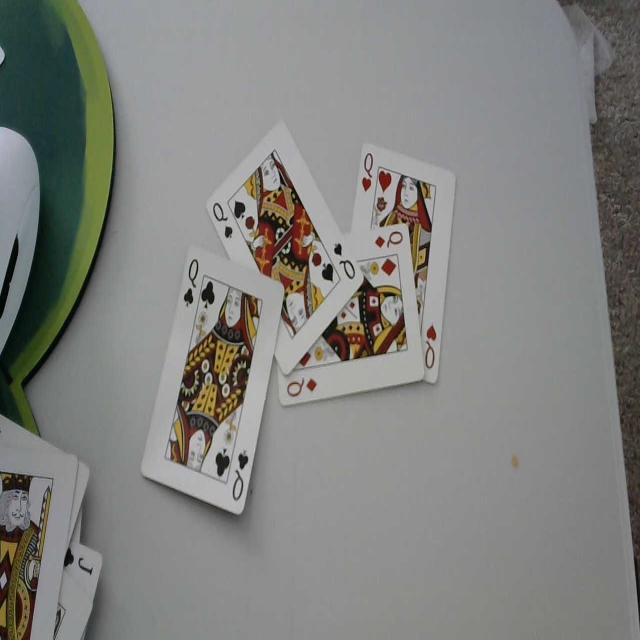JC: (64, 547, 98, 576)
QC: (230, 446, 251, 505), (182, 258, 200, 311)
QD: (285, 373, 321, 399), (373, 230, 404, 251)
QH: (424, 322, 436, 371), (361, 147, 373, 195)
QS: (210, 200, 235, 243), (331, 241, 356, 284)
